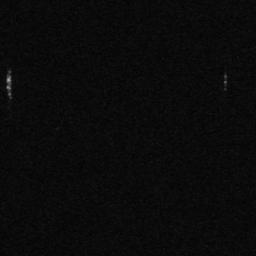ship: (221, 73, 229, 91)
